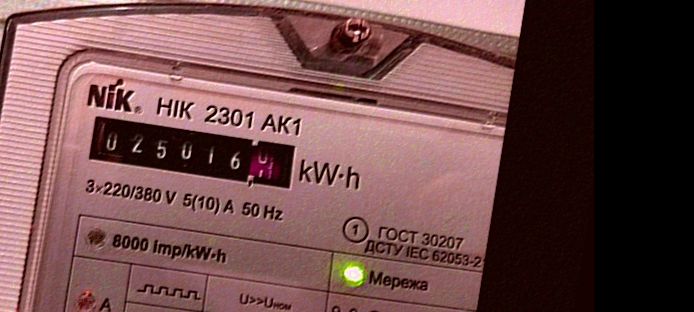0: (179, 138, 196, 163), (103, 130, 119, 154), (255, 145, 270, 166)
1: (203, 141, 218, 167), (255, 168, 264, 180)
2: (129, 131, 145, 156)
5: (154, 138, 168, 160)
6: (226, 147, 243, 174)
screen: (78, 105, 306, 199)
